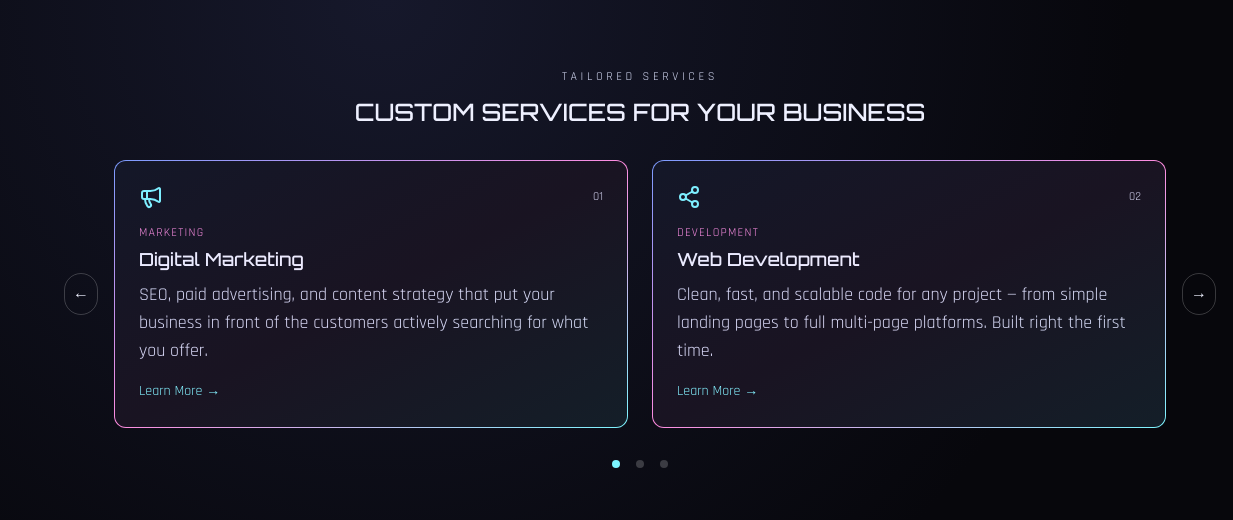
Test: clicking Previous from the first slide wraps to the last slide
Click the button named "Previous".
click(81, 294)  # box [64,273,98,315]
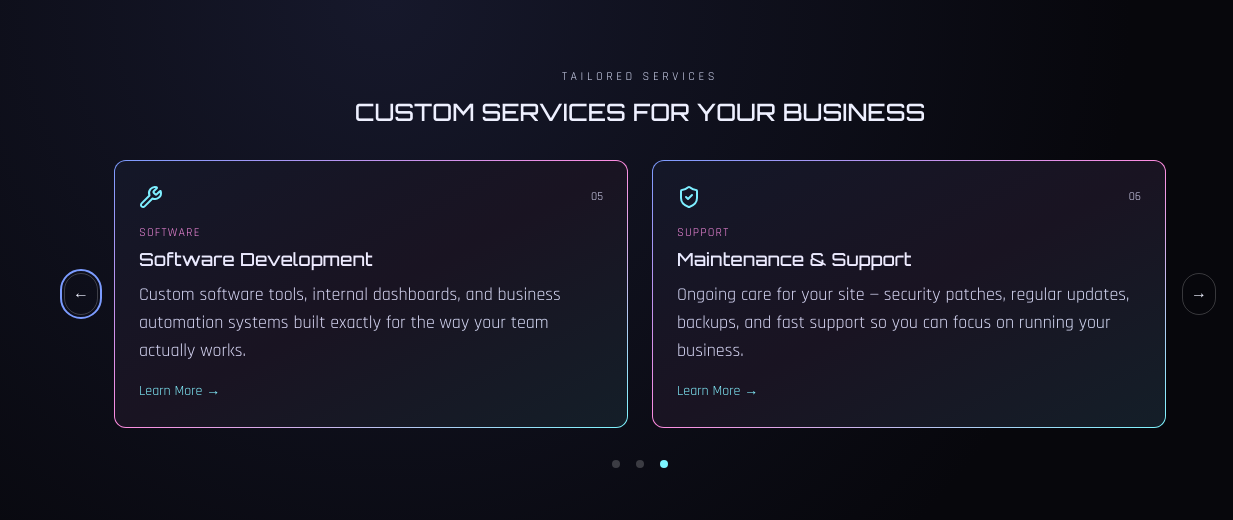
Expected: the heading "Software Development" is shown, [139,248,373,270]
Expected: the heading "Maintenance & Support" is shown, [677,248,912,270]
